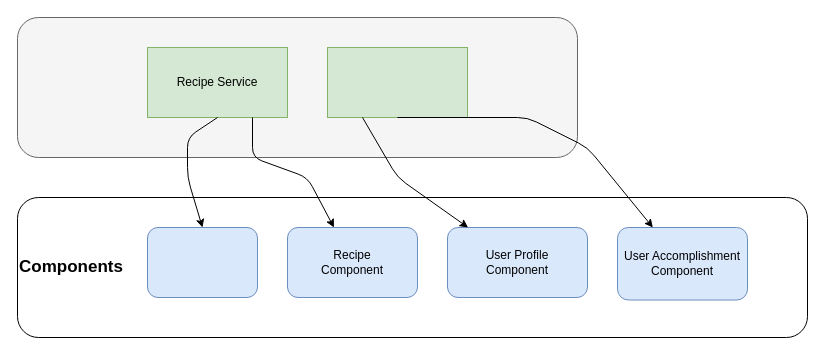
The diagram is 825 pixels wide and 355 high, and some of its shapes have lost their labels. The box of each missing label's shape, as (x1, y1, x2, y2) in pixels:
Cookbook Component: (146, 226, 258, 298)
Injector: (16, 16, 578, 158)
User Service: (326, 46, 468, 118)
